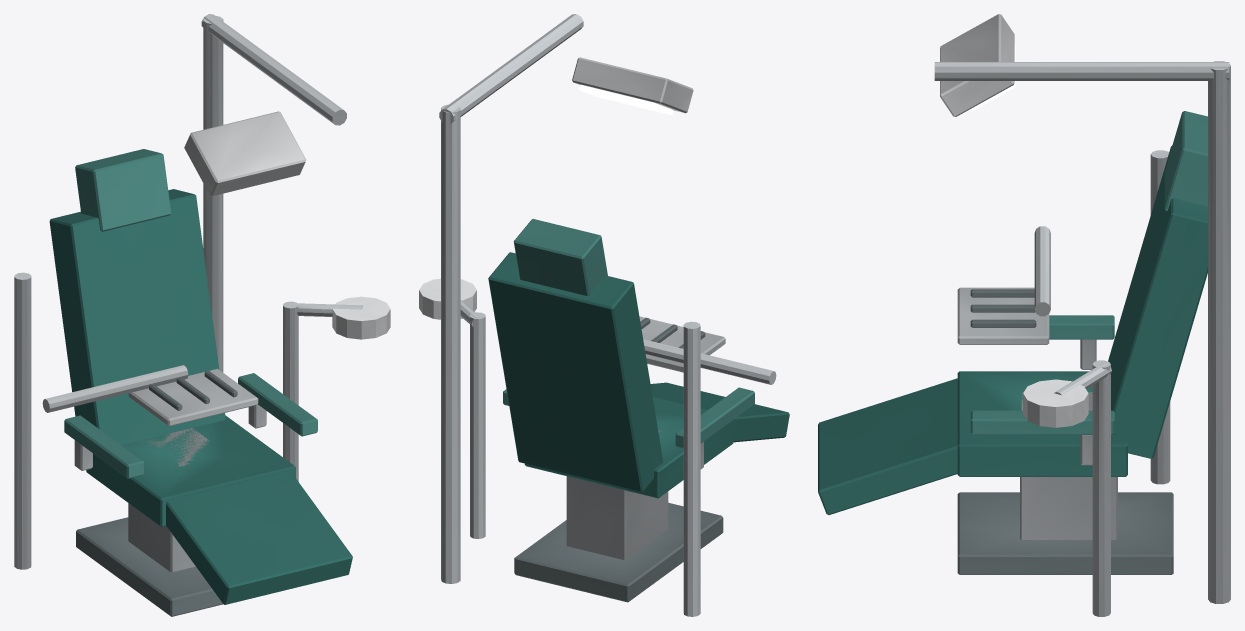
Rendered from dental_chair_box.glb.
The picture shows the model from 3 angles, left to right: view 1: azimuth 30°, elevation 25°; view 2: azimuth 150°, elevation 25°; view 3: azimuth 270°, elevation 25°; orthographic projection. The views are drawn at different scales.
Parts seen in each view (by area): view 1: Backrest, LegRest, SeatPan, LightHead, Headrest, Base, TrayPost, LightPost, Tray, Column, LightArm, TrayArm (+5 smaller); view 2: Backrest, LightPost, Base, Column, Headrest, TrayPost, SpittoonArm, SeatPan, LightHead, LightArm, LegRest, TrayArm (+4 smaller); view 3: Backrest, LegRest, Base, LightPost, SeatPan, LightArm, Column, SpittoonArm, LightHead, Tray, Headrest, Spittoon (+8 smaller).
Boxes of the visible parts, x1,y1,x2,y2 form: Backrest: (49,189,225,445); LegRest: (166,471,352,604); SeatPan: (86,415,295,526); LightHead: (184,111,306,196); Headrest: (75,149,171,231); Base: (76,517,222,616); TrayPost: (14,272,31,569); LightPost: (203,15,223,372); Tray: (128,368,258,426); Column: (128,428,210,572); LightArm: (201,14,346,125); TrayArm: (42,365,188,412); Backrest: (488,252,663,491); LightPost: (441,104,460,583); Base: (514,502,723,602); Column: (566,430,668,559); Headrest: (513,219,607,295); TrayPost: (683,321,700,616); SpittoonArm: (470,312,485,538); SeatPan: (524,397,733,498); LightHead: (572,57,693,113); LightArm: (439,14,583,124); LegRest: (650,382,789,442); TrayArm: (643,339,776,384); Backrest: (1108,146,1207,458); LegRest: (818,378,957,514); Base: (957,492,1173,574); LightPost: (1208,61,1230,603); SeatPan: (957,371,1127,476); LightArm: (934,62,1229,80); Column: (1020,392,1117,539); SpittoonArm: (1092,360,1110,616); LightHead: (940,14,1014,116); Tray: (957,287,1049,344); Headrest: (1164,111,1207,210); Spittoon: (1023,379,1088,427).
Size of the model in its own units: 1.38 by 1.81 by 1.26.
